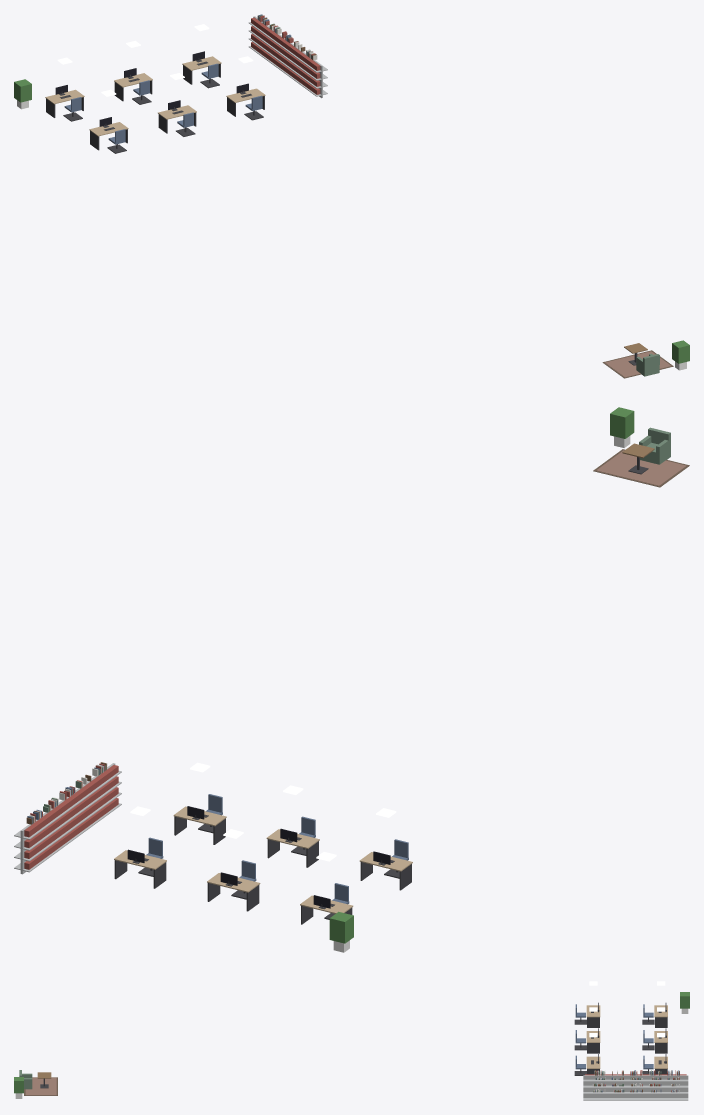
Rendered from fine-s2.glb.
3 renders of one model, top to bottom at view 1: azimuth 30°, elevation 25°; view 2: azimuth 150°, elevation 25°; view 3: azimuth 270°, elevation 25°, orthographic. The views are drawn at different scales.
Parts seen in each view (by area): view 1: soft-s2, shelving.010, shelving.006, shelving.008, office-desk-real.010, office-desk-real.009, office-desk-real.008, office-desk-real.006, office-desk-real.007, office-desk-real.011, shelving.009; view 2: soft-s2, shelving.006, office-desk-real.007, office-desk-real.008, office-desk-real.009, office-desk-real.010, office-desk-real.011, shelving.008, shelving.007, shelving.009, shelving.010, plant-medium.002 (+2 smaller); view 3: soft-s2, shelving.006, shelving.007, shelving.008, shelving.010, shelving.009, office-desk-real.009, office-desk-real.010, office-desk-real.006, office-desk-real.007, office-desk-real.011, office-desk-real.008 (+2 smaller).
Boxes of the visible parts, left/top/right/bottom form: soft-s2: left=257, top=14, right=673, bottom=378; shelving.010: left=297, top=52, right=327, bottom=98; shelving.006: left=248, top=16, right=273, bottom=60; shelving.008: left=272, top=34, right=297, bottom=78; office-desk-real.010: left=158, top=100, right=196, bottom=133; office-desk-real.009: left=89, top=117, right=128, bottom=150; office-desk-real.008: left=182, top=51, right=221, bottom=84; office-desk-real.006: left=45, top=85, right=84, bottom=117; office-desk-real.007: left=114, top=68, right=152, bottom=101; office-desk-real.011: left=226, top=83, right=265, bottom=116; shelving.009: left=285, top=43, right=307, bottom=87; soft-s2: left=26, top=449, right=689, bottom=824; shelving.006: left=14, top=812, right=56, bottom=874; office-desk-real.007: left=207, top=872, right=260, bottom=911; office-desk-real.008: left=114, top=849, right=166, bottom=888; office-desk-real.009: left=359, top=851, right=412, bottom=890; office-desk-real.010: left=266, top=828, right=319, bottom=867; office-desk-real.011: left=173, top=806, right=226, bottom=844; shelving.008: left=59, top=788, right=89, bottom=846; shelving.007: left=44, top=800, right=72, bottom=859; shelving.009: left=74, top=776, right=105, bottom=835; shelving.010: left=91, top=763, right=121, bottom=823; plant-medium.002: left=610, top=407, right=634, bottom=447; soft-s2: left=24, top=1070, right=679, bottom=1095; shelving.006: left=658, top=1074, right=688, bottom=1100; shelving.007: left=639, top=1074, right=669, bottom=1100; shelving.008: left=620, top=1074, right=650, bottom=1100; shelving.010: left=583, top=1074, right=613, bottom=1100; shelving.009: left=602, top=1074, right=631, bottom=1100; office-desk-real.009: left=586, top=1002, right=600, bottom=1027; office-desk-real.010: left=586, top=1028, right=600, bottom=1053; office-desk-real.006: left=654, top=1003, right=667, bottom=1027; office-desk-real.007: left=654, top=1028, right=667, bottom=1053; office-desk-real.011: left=586, top=1054, right=600, bottom=1074; office-desk-real.008: left=654, top=1054, right=667, bottom=1074.
Bounding box in the file's own units: 12.87 × 2.56 × 39.94.
